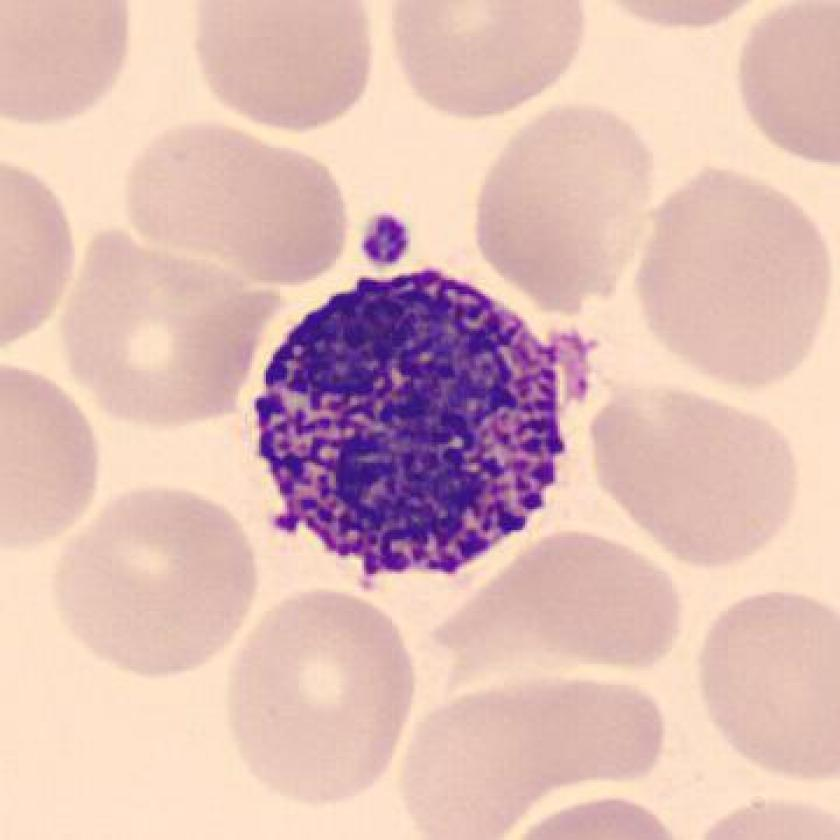basophil: (246, 253, 598, 591)
